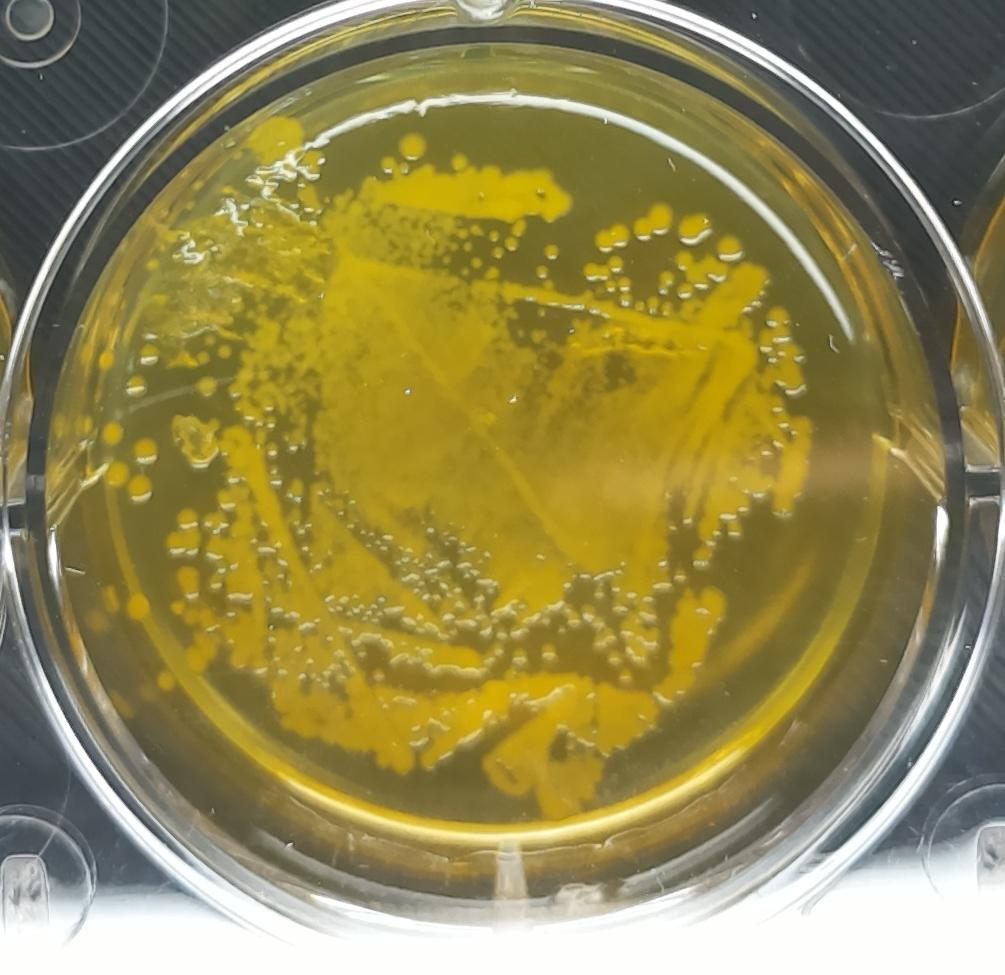vharveyi: (649, 586, 729, 702), (336, 621, 487, 681), (230, 439, 293, 554), (768, 410, 818, 521), (760, 332, 814, 402), (445, 581, 498, 641), (502, 281, 588, 317), (581, 603, 617, 656), (182, 627, 222, 674), (167, 507, 204, 557), (539, 179, 578, 225), (635, 200, 675, 239), (594, 219, 635, 253), (398, 126, 435, 162), (174, 560, 205, 602), (674, 211, 710, 245), (712, 231, 747, 264), (298, 146, 327, 184), (372, 151, 412, 178), (122, 590, 151, 625), (128, 471, 157, 505), (297, 183, 327, 214), (153, 667, 184, 696), (99, 419, 127, 450), (203, 532, 231, 562), (445, 148, 475, 175), (132, 438, 158, 467), (124, 372, 150, 400), (764, 304, 790, 330), (233, 398, 259, 424), (106, 460, 131, 487), (95, 349, 119, 375), (583, 261, 610, 283), (508, 647, 532, 670), (195, 374, 218, 397), (657, 269, 676, 295), (537, 640, 558, 662), (217, 343, 236, 362), (263, 412, 282, 431), (605, 255, 623, 274), (543, 242, 560, 260), (675, 282, 693, 299), (483, 265, 502, 281), (193, 350, 212, 366), (504, 236, 520, 253), (490, 246, 507, 261), (533, 263, 548, 279), (469, 255, 484, 271), (204, 332, 218, 347), (470, 710, 472, 711)
